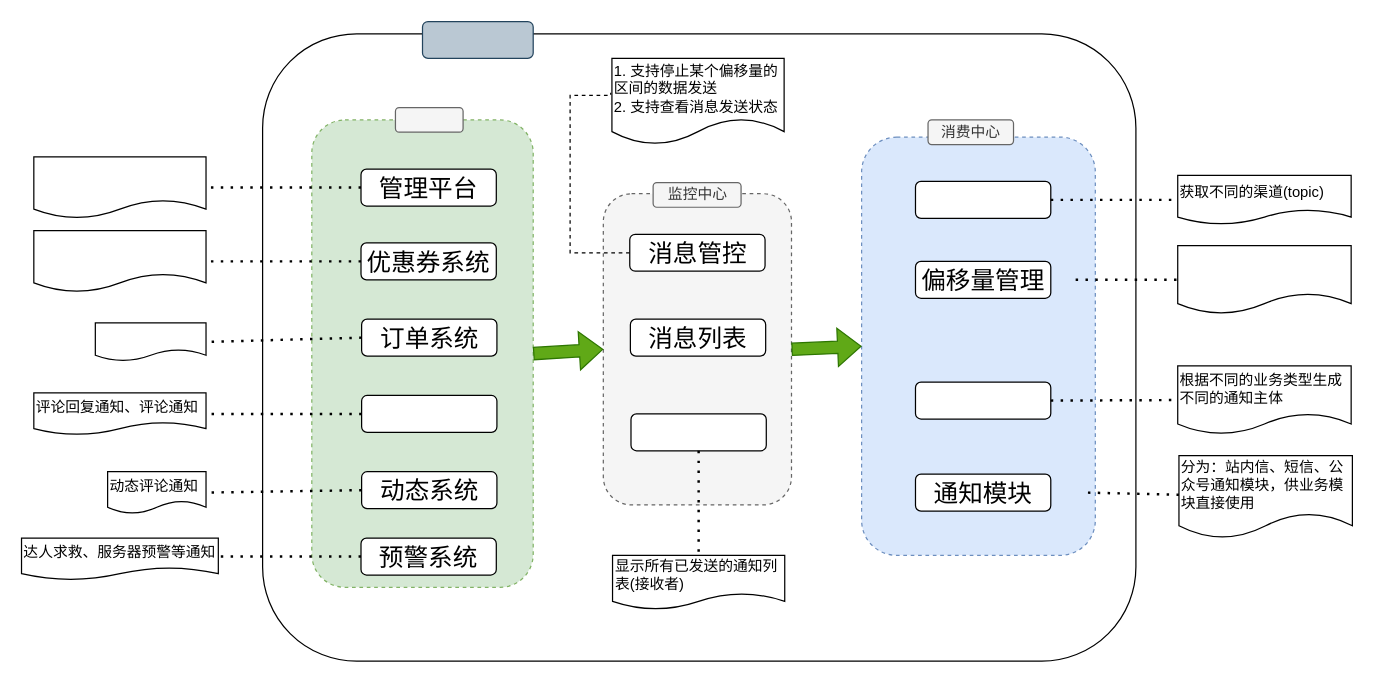
The diagram is 1374 pixels wide and 683 high, and some of its shapes have lost their labels. Here are the shapes that lost their labels. From the top down, the centre of each, then its label:
At point 477,39: "消息系统".
At point 428,119: "注册中心".
At point 119,187: "系统管理员发送系统消息".
At point 982,199: "渠道管理".
At point 119,260: "优惠券系统向用户发送优惠券相关通知".
At point 1263,279: "根据渠道获取偏移量数据 (方便管理消息)".
At point 150,341: "下单状态通知".
At point 428,413: "评论系统".
At point 982,400: "业务模块".
At point 698,432: "消息详情".
